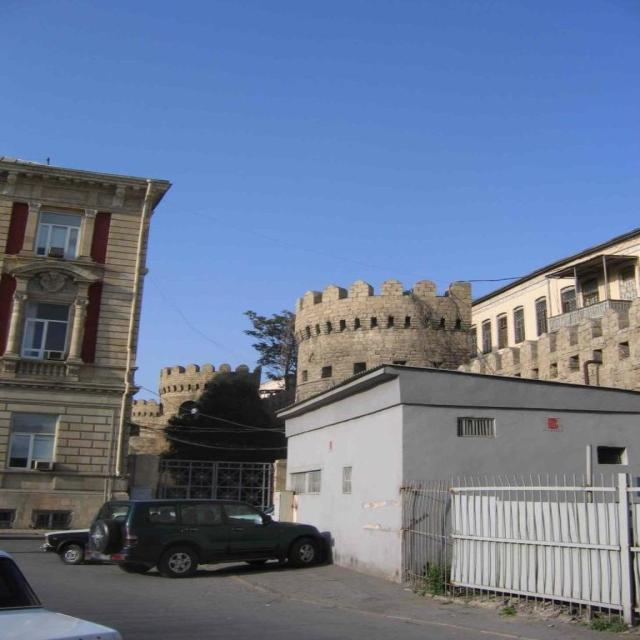car: (84, 495, 331, 579)
